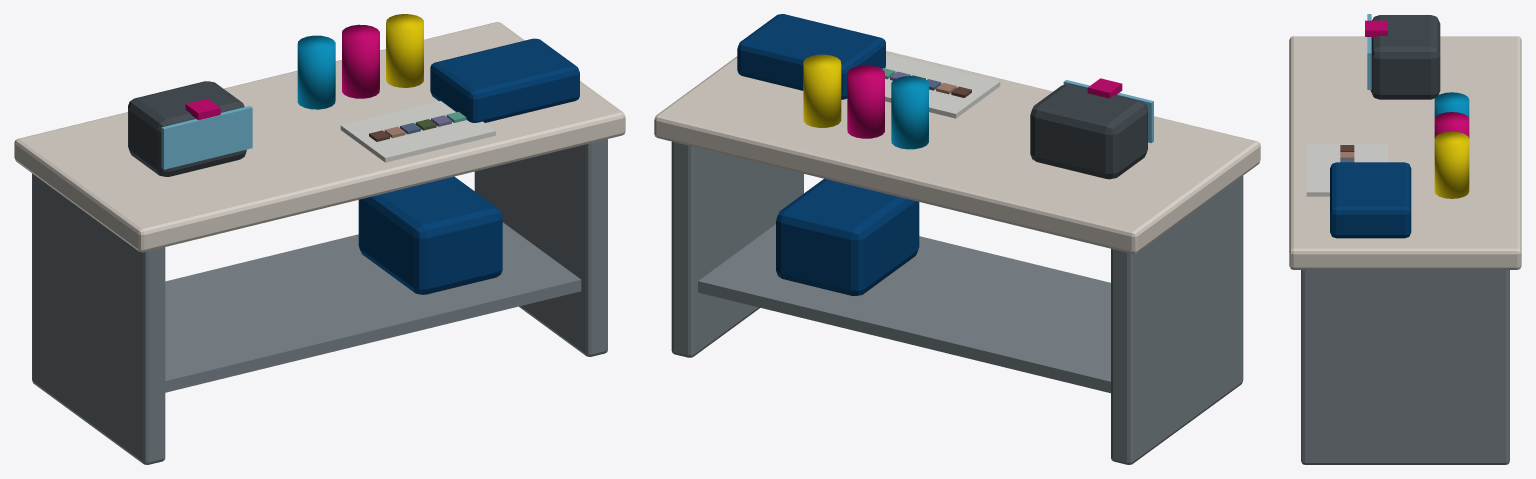
The model's file is m_labbench.glb.
The picture shows the model from 3 angles, left to right: view 1: azimuth 30°, elevation 25°; view 2: azimuth 150°, elevation 25°; view 3: azimuth 270°, elevation 25°; orthographic projection. The views are drawn at different scales.
Parts seen in each view (by area): view 1: m_labbench; view 2: m_labbench; view 3: m_labbench.
Part boxes in pixels (left/top/right/bottom): m_labbench: left=14, top=14, right=625, bottom=464; m_labbench: left=654, top=14, right=1260, bottom=464; m_labbench: left=1289, top=14, right=1521, bottom=464.
Size of the model in its own units: 0.44 by 0.265 by 0.2.
